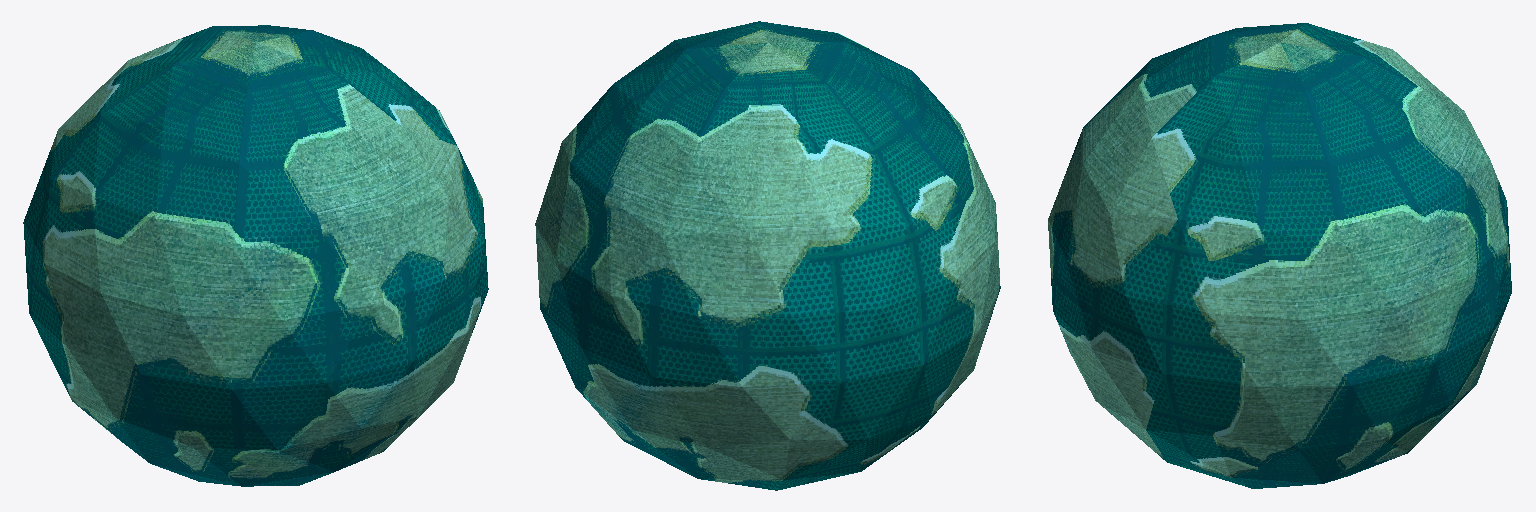
3 renders of one model, left to right at view 1: azimuth 30°, elevation 25°; view 2: azimuth 150°, elevation 25°; view 3: azimuth 270°, elevation 25°, orthographic.
Parts seen in each view (by area): view 1: polygon0; view 2: polygon0; view 3: polygon0.
Boxes of the visible parts, box(x1,y1,x2,y2) form: polygon0: box(23, 25, 488, 486); polygon0: box(535, 21, 1000, 490); polygon0: box(1048, 23, 1511, 488).
Bounding box in the file's own units: 538 × 547 × 539.
Materials: 1 (1 with a texture image).